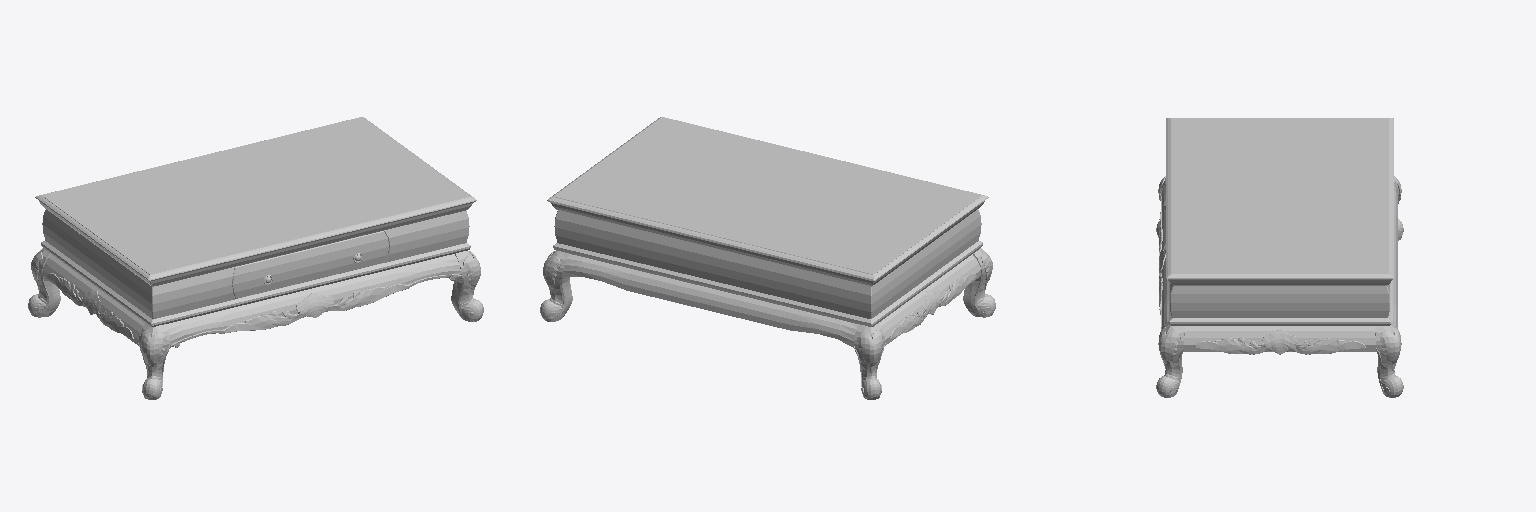
The model's file is CoffeeTable_01.obj.
3 views of the same model, side by side, from view 1: azimuth 30°, elevation 25°; view 2: azimuth 150°, elevation 25°; view 3: azimuth 270°, elevation 25° (orthographic).
Parts seen in each view (by area): view 1: CoffeeTable_01_Mesh; view 2: CoffeeTable_01_Mesh; view 3: CoffeeTable_01_Mesh.
Part boxes in pixels (bbox=[...]): CoffeeTable_01_Mesh: bbox=[28, 117, 483, 399]; CoffeeTable_01_Mesh: bbox=[540, 117, 995, 399]; CoffeeTable_01_Mesh: bbox=[1156, 118, 1403, 397].
Bounding box in the file's own units: 1.54 × 0.5232 × 0.9728.